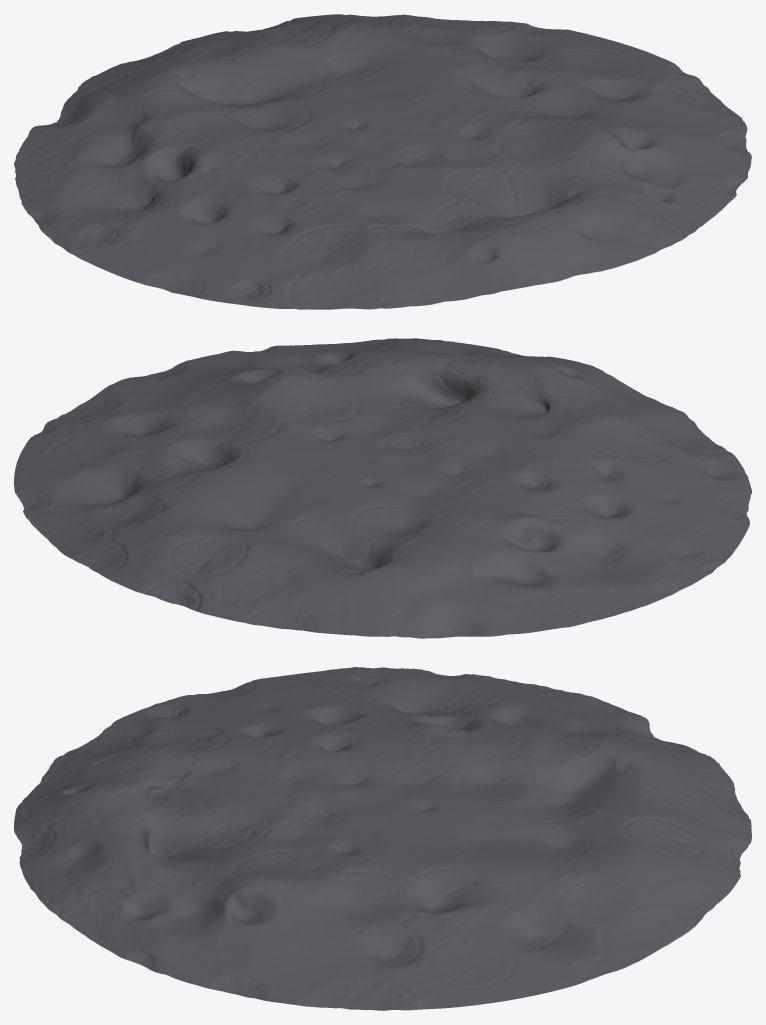
The model's file is asteroid12.glb.
3 views of the same model, one above another, from view 1: azimuth 30°, elevation 25°; view 2: azimuth 150°, elevation 25°; view 3: azimuth 270°, elevation 25° (orthographic). The views are drawn at different scales.
Parts seen in each view (by area): view 1: Object_3; view 2: Object_3; view 3: Object_3.
Part boxes in pixels (x1,y1,x2,y2): Object_3: [14, 14, 751, 309]; Object_3: [14, 338, 751, 638]; Object_3: [14, 667, 751, 1010].
Size of the model in its own units: 65.5 by 3.84 by 59.88.
1 material, 1 textured.
